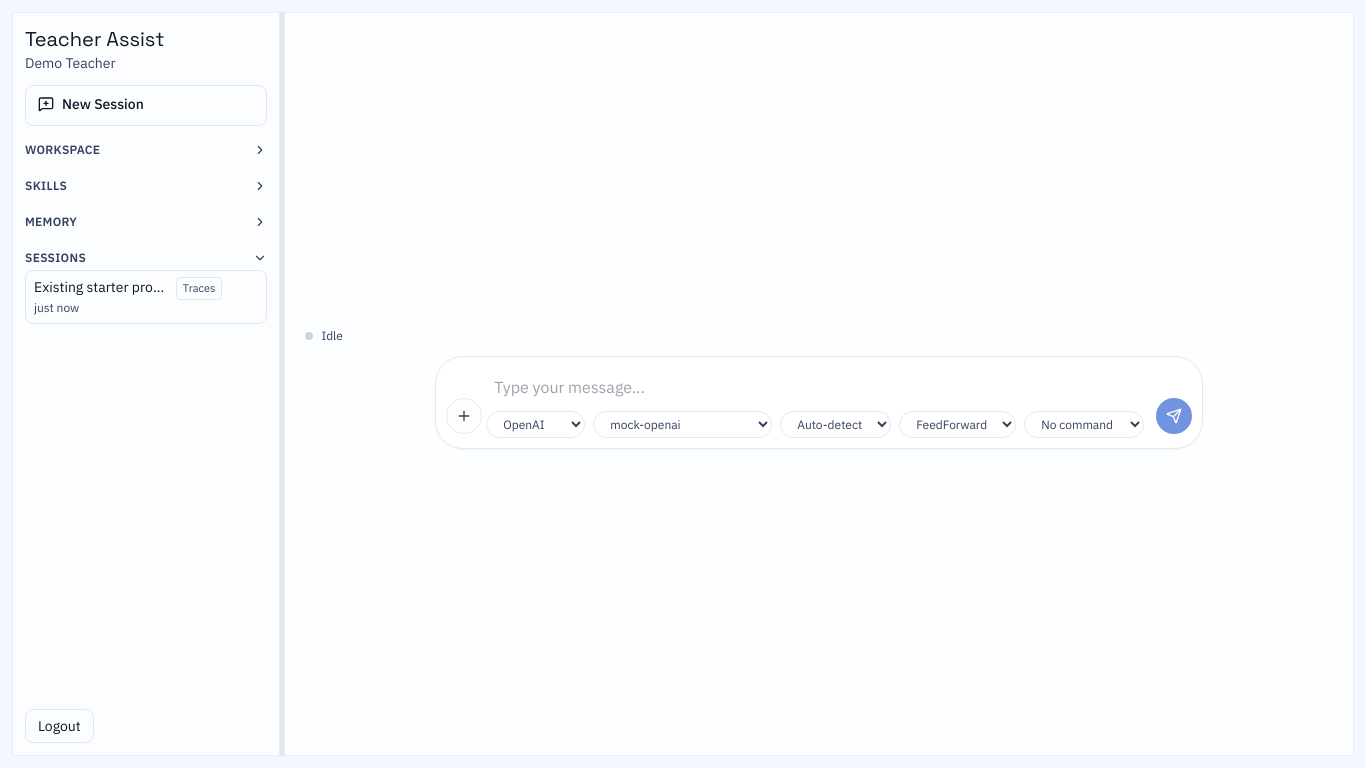
App traces › opens session trace viewer from sessions list
Expected: the text "Existing starter prompt" is shown, [34,277,168,297]
Click the button "Traces".
click(199, 288)  # box [176,277,222,300]
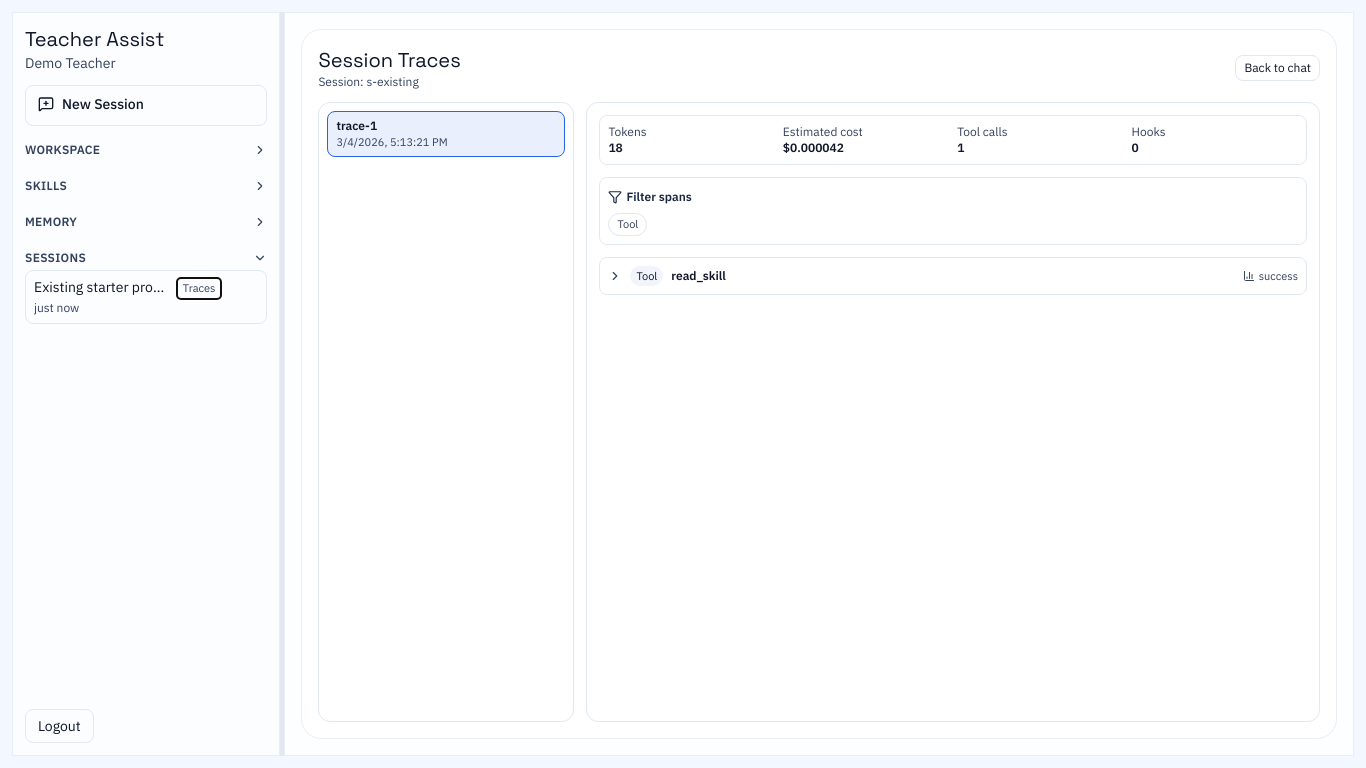
Now the heading "Session Traces" is shown, box [318,46,461,74]
Now the text "Tool calls" is shown, box [957,124,1008,139]
Now the text "$0.000042" is shown, box [783,140,844,155]
